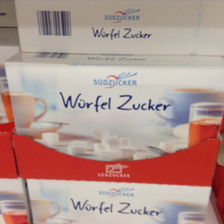tomato_sauce: (4, 52, 223, 162)
